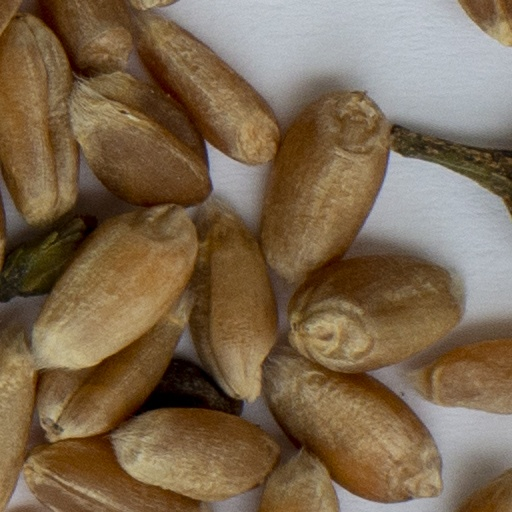Peel-poly: (390, 127, 511, 224), (0, 214, 93, 300)
Wheat-grain-poly: (38, 289, 186, 438), (112, 406, 278, 500), (26, 440, 213, 511), (0, 318, 35, 511), (260, 449, 336, 511)
